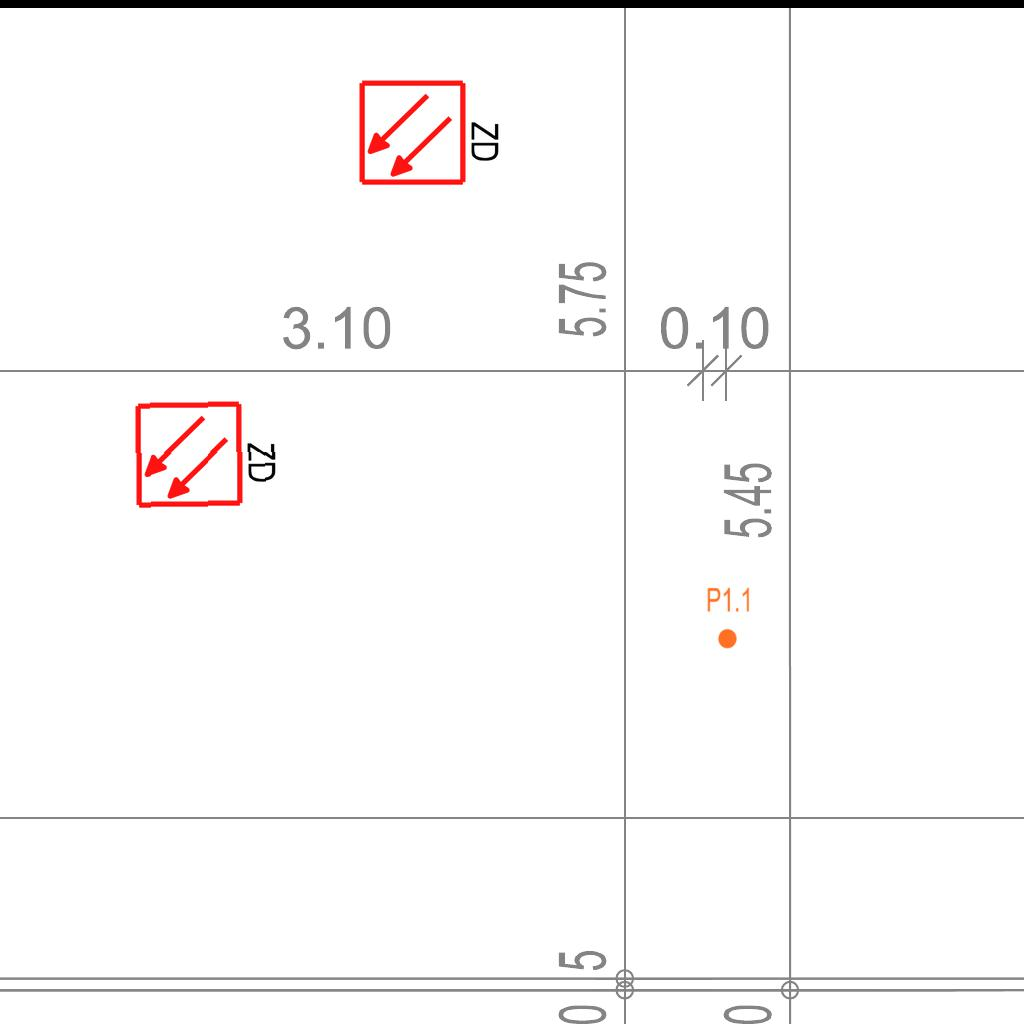Downlight_LED_Einbauleuchten_Flur: (706, 586, 752, 650)
ZD_Melder_in_Zwischendecke_mit_Revisionsoeffnung_mind_40_x_40_cm: (132, 394, 284, 511), (357, 74, 506, 188)
